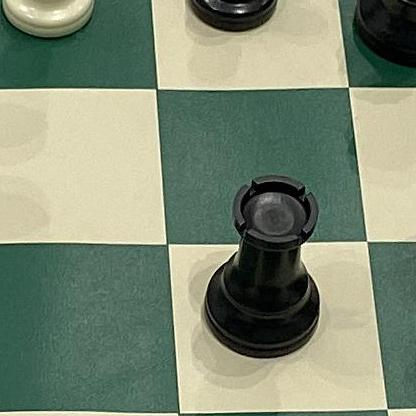black-pawn: (181, 0, 292, 39)
black-rook: (188, 158, 332, 366)
white-pawn: (0, 0, 109, 40)
